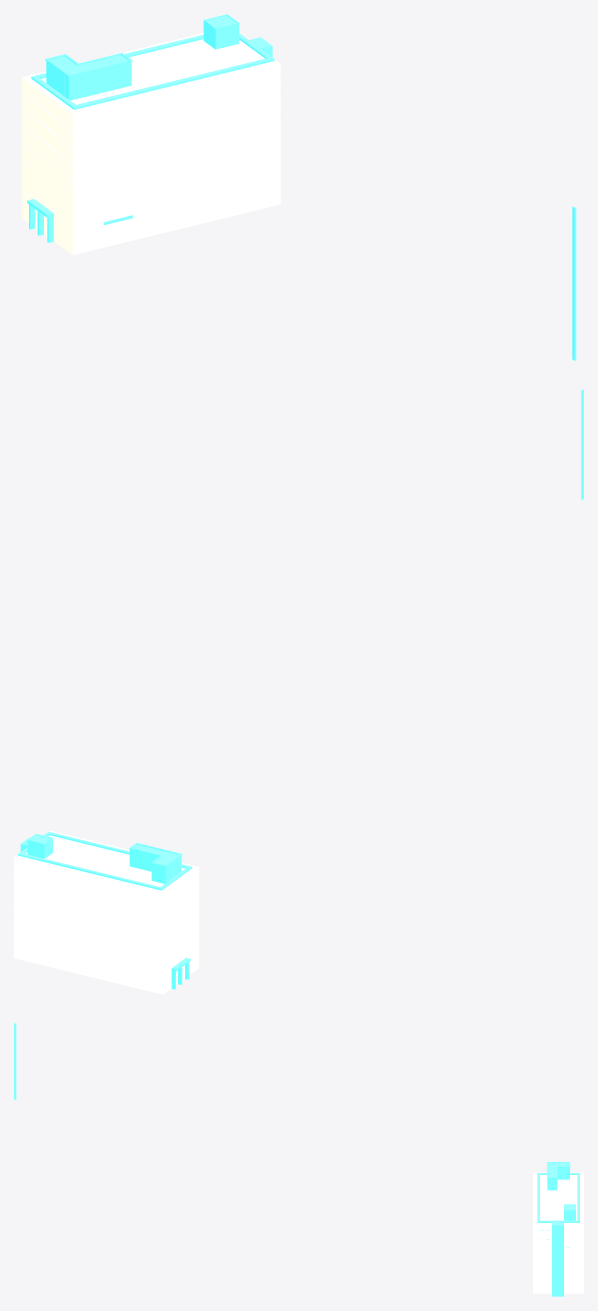
The picture shows the model from 3 angles, top to bottom: view 1: azimuth 30°, elevation 25°; view 2: azimuth 150°, elevation 25°; view 3: azimuth 270°, elevation 25°; orthographic projection. The views are drawn at different scales.
Visible parts, largest first — view 1: 空白, 外框; view 2: 空白, 外框; view 3: 空白, 外框.
Boxes of the visible parts, x1,y1,x2,y2 form: 空白: (21, 33, 280, 254); 外框: (27, 14, 576, 360); 空白: (14, 830, 199, 994); 外框: (18, 389, 583, 989); 空白: (533, 1172, 583, 1293); 外框: (14, 1023, 579, 1296).
Bounding box in the file's own units: 62.41 × 109 × 261.
